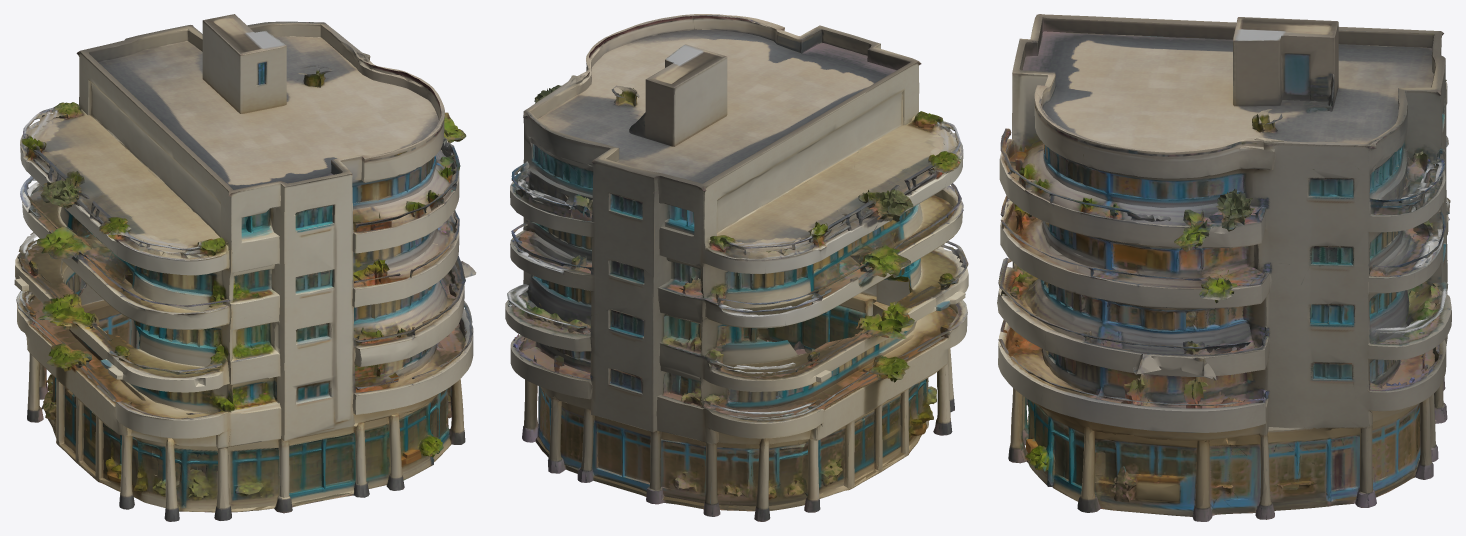
The model's file is v3_dizengoff_circle.glb.
3 renders of one model, left to right at view 1: azimuth 30°, elevation 25°; view 2: azimuth 150°, elevation 25°; view 3: azimuth 270°, elevation 25°, orthographic. The views are drawn at different scales.
Parts seen in each view (by area): view 1: geometry_0; view 2: geometry_0; view 3: geometry_0.
Part boxes in pixels (x1,y1,x2,y2): geometry_0: (14,14,476,521); geometry_0: (505,14,968,521); geometry_0: (997,14,1451,521).
Size of the model in its own units: 22 by 20 by 20.
Materials: 1 (1 with a texture image).
